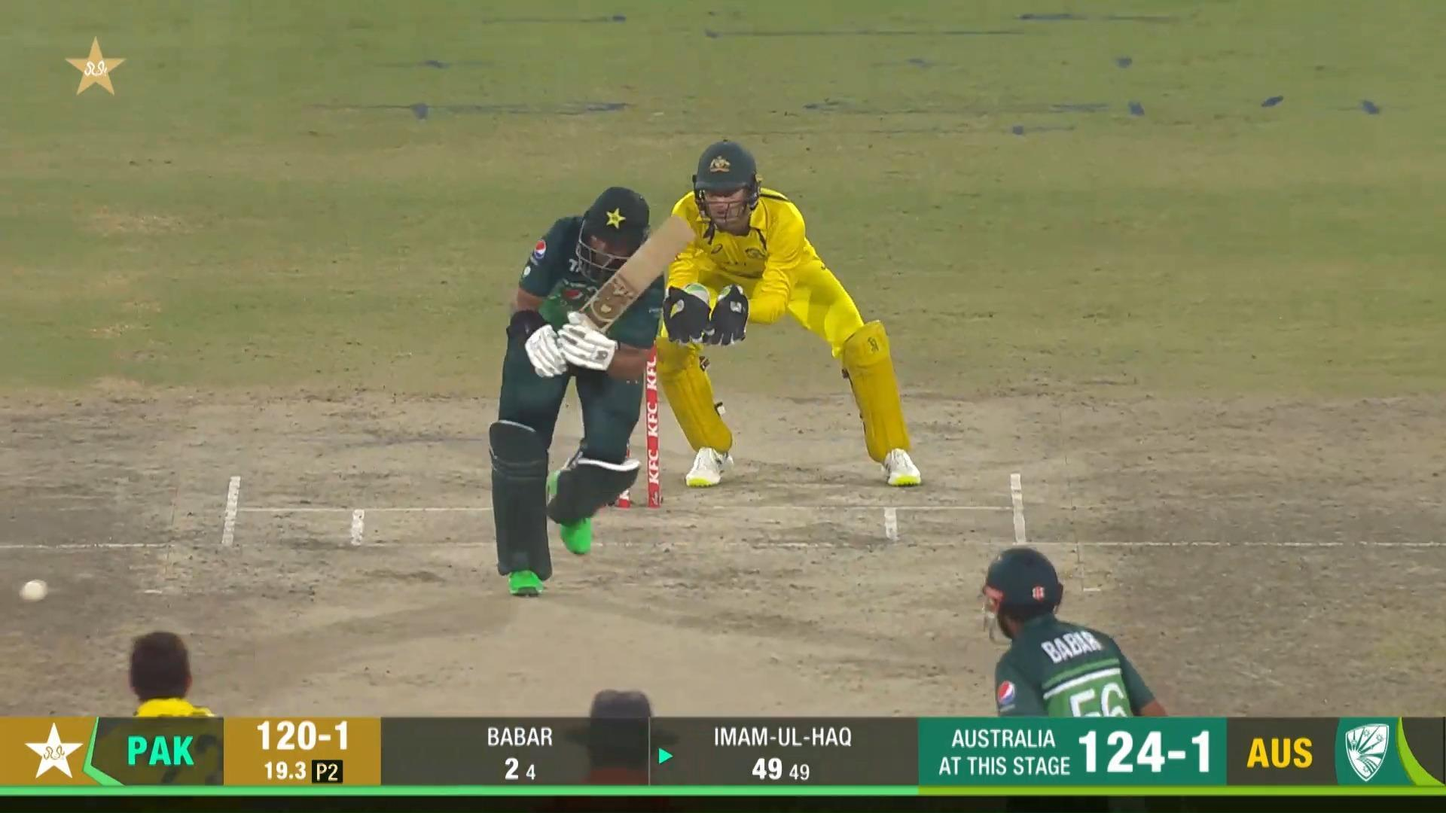BM 1: (488, 187, 699, 597)
BO: (95, 629, 228, 796)
